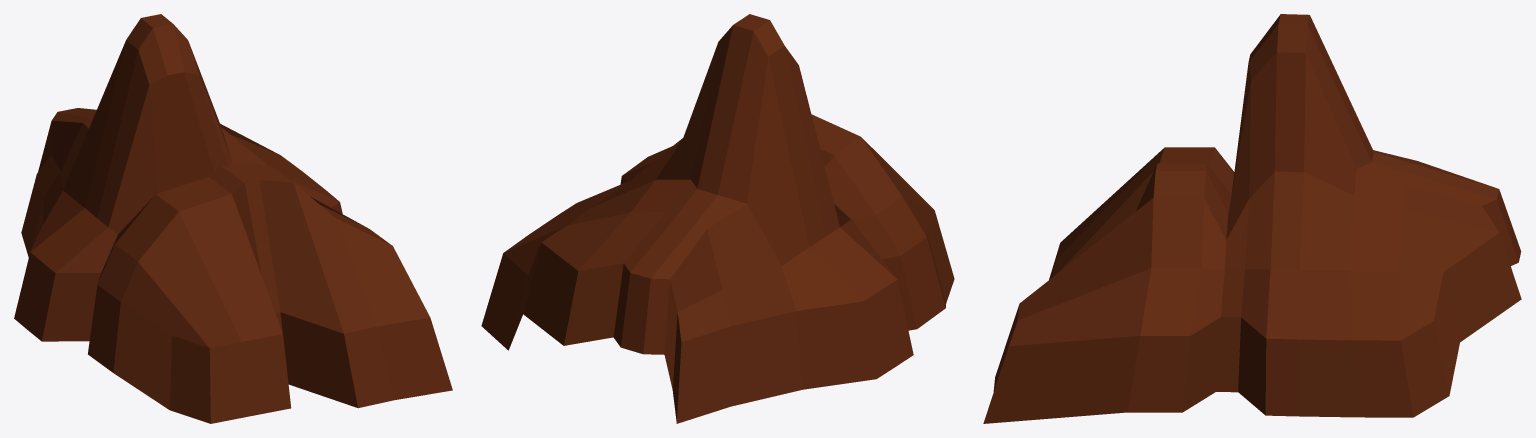
File: Mountain_2.FBX
3 views of the same model, side by side, from view 1: azimuth 30°, elevation 25°; view 2: azimuth 150°, elevation 25°; view 3: azimuth 270°, elevation 25° (orthographic). The views are drawn at different scales.
Parts seen in each view (by area): view 1: Mountain_2; view 2: Mountain_2; view 3: Mountain_2.
Part boxes in pixels (x1=…): Mountain_2: x1=14, y1=14, x2=452, y2=423; Mountain_2: x1=481, y1=14, x2=954, y2=423; Mountain_2: x1=983, y1=14, x2=1521, y2=423.
Size of the model in its own units: 72.78 by 65.91 by 99.03.
